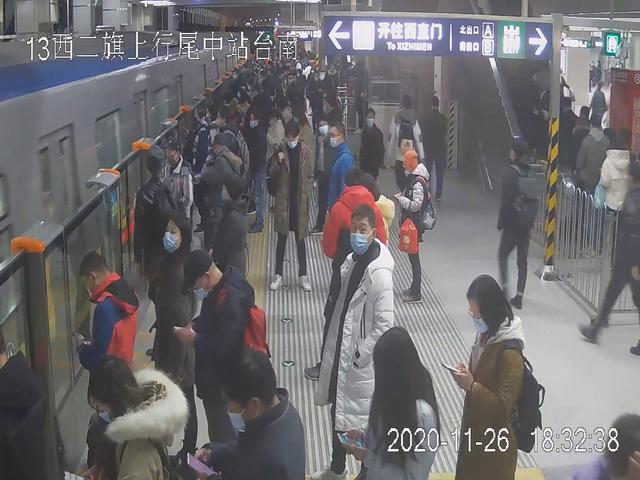person: (313, 201, 397, 480), (454, 272, 552, 480), (70, 249, 141, 480), (70, 350, 189, 480), (199, 344, 312, 480), (148, 212, 202, 480), (309, 174, 376, 385), (354, 323, 441, 480), (134, 139, 195, 334), (266, 115, 318, 299), (497, 129, 535, 319), (393, 147, 432, 302), (323, 121, 353, 272), (390, 87, 422, 208), (423, 93, 449, 205)
